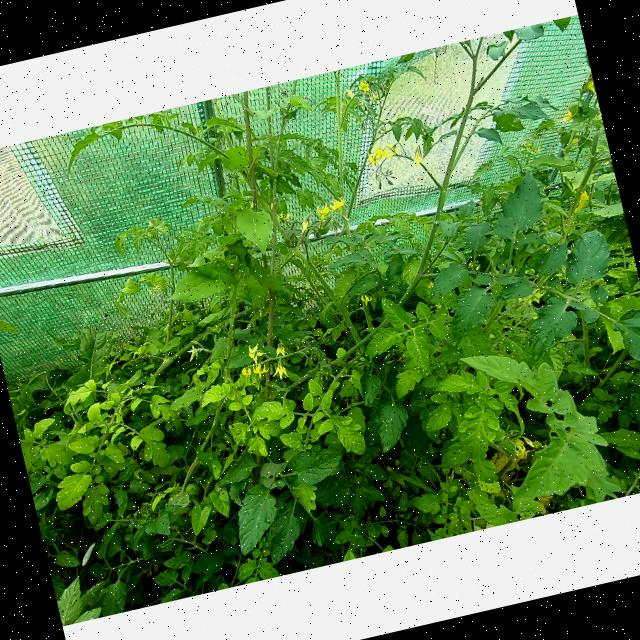Flowers: (362, 138, 399, 164), (570, 187, 595, 213), (185, 338, 210, 361), (510, 434, 535, 456), (270, 358, 292, 380), (520, 136, 544, 156), (246, 342, 266, 365), (296, 212, 316, 235), (312, 202, 332, 224), (328, 196, 348, 218), (354, 76, 374, 98), (251, 360, 272, 379), (578, 75, 596, 97), (410, 146, 426, 168), (146, 282, 164, 299), (272, 339, 288, 358), (558, 108, 574, 125), (360, 292, 376, 308), (239, 364, 252, 378)
